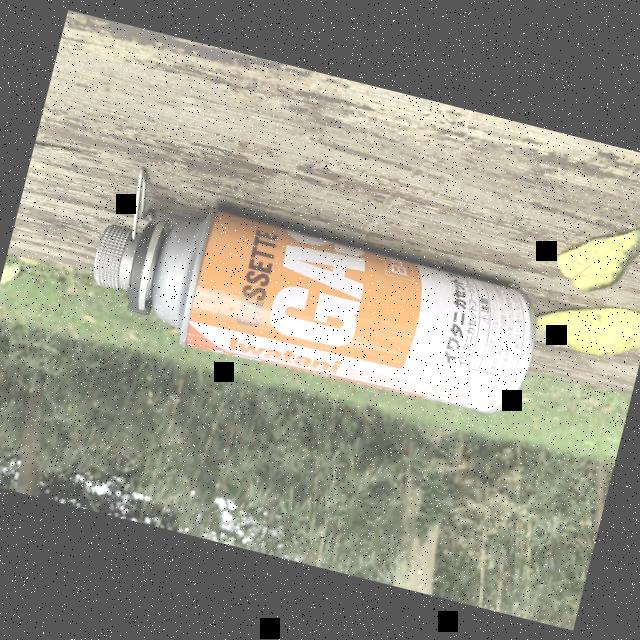chemical_spray_can: (36, 96, 594, 446)
